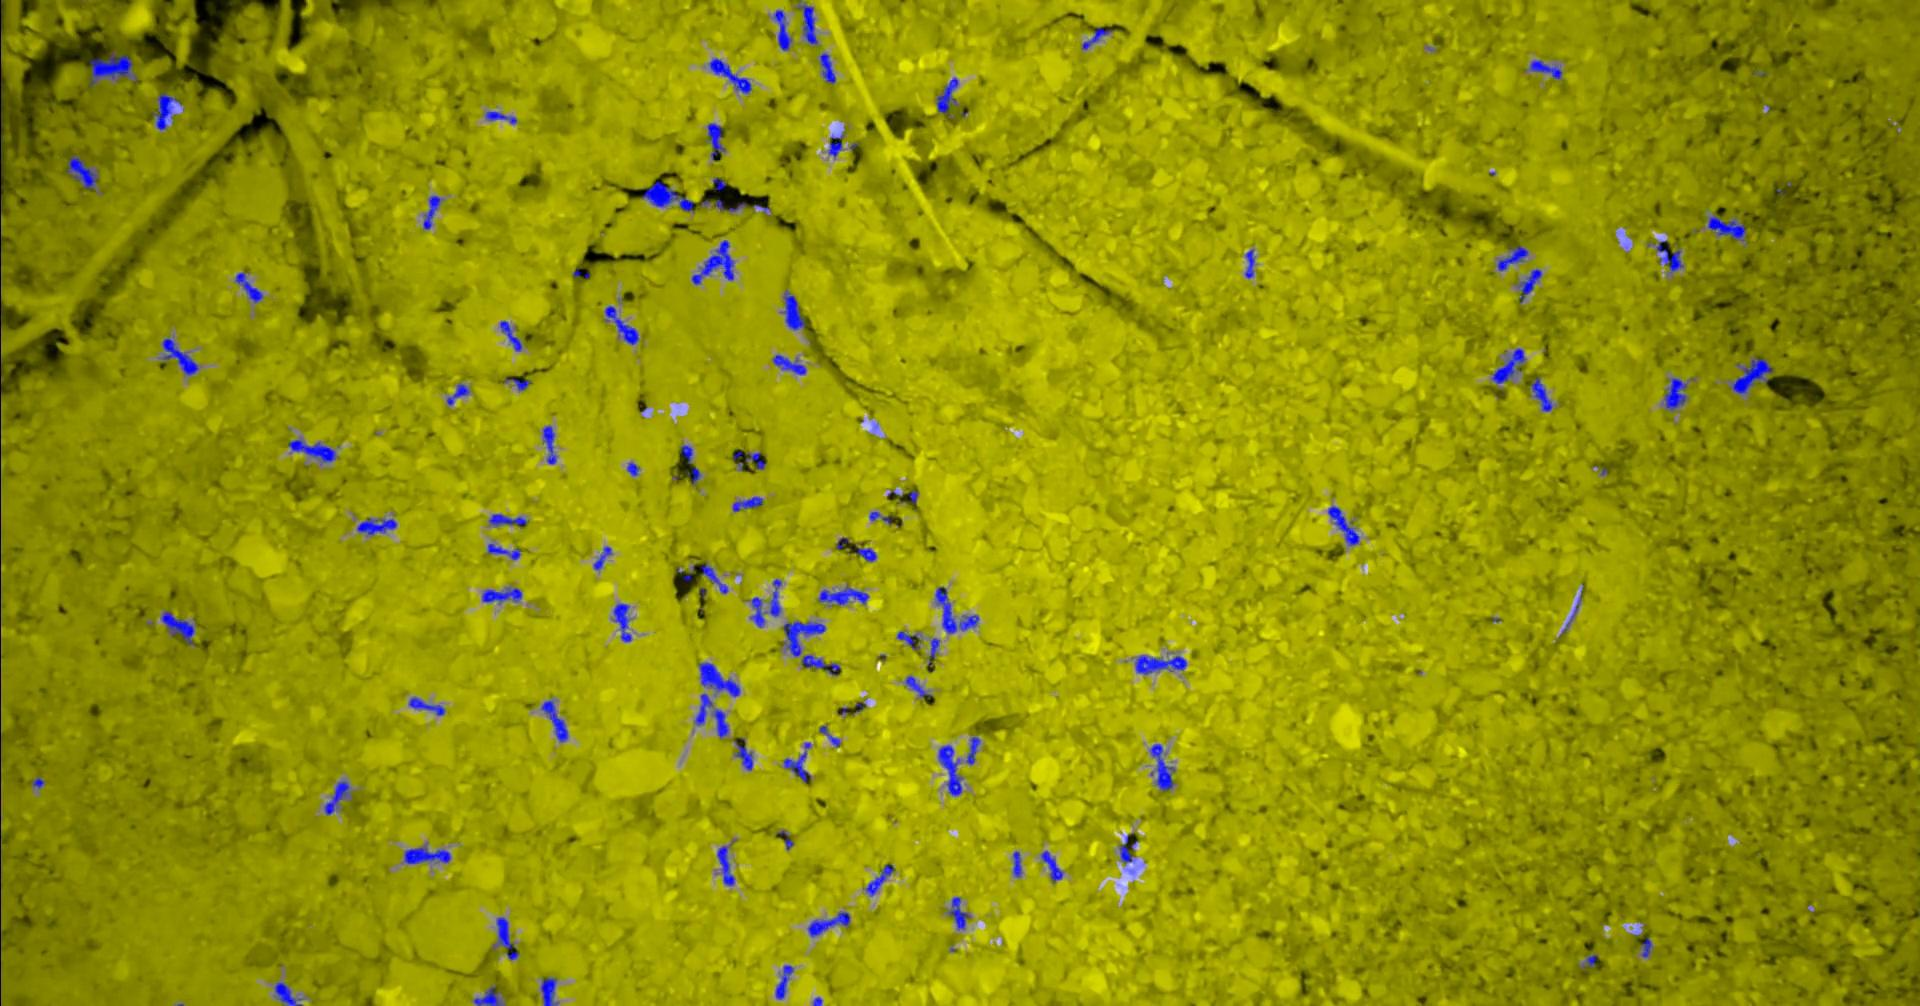ant: (782, 621, 841, 674), (935, 586, 978, 633), (691, 239, 733, 285), (88, 51, 136, 86), (641, 180, 693, 211), (1731, 356, 1773, 392), (709, 58, 750, 93), (698, 662, 739, 696), (163, 337, 197, 375), (604, 305, 637, 344), (937, 744, 961, 795), (1149, 743, 1175, 791), (1491, 348, 1525, 384), (1327, 506, 1357, 545), (161, 610, 194, 645), (1647, 240, 1683, 272), (287, 439, 335, 462), (66, 154, 97, 189), (541, 700, 568, 741), (783, 742, 810, 782), (152, 93, 182, 130), (808, 911, 850, 936), (1707, 215, 1745, 240), (818, 586, 869, 605), (1135, 655, 1186, 674), (865, 862, 894, 895), (497, 917, 518, 959), (324, 780, 349, 815), (782, 290, 805, 329), (403, 843, 450, 862), (698, 563, 728, 593), (1517, 268, 1542, 304), (234, 272, 262, 302), (797, 3, 817, 44), (1497, 245, 1528, 271), (936, 77, 957, 113), (1530, 376, 1552, 412), (1663, 377, 1686, 410), (773, 9, 791, 50), (408, 696, 444, 715), (716, 846, 734, 885), (1081, 27, 1111, 50), (1040, 850, 1062, 882), (613, 603, 631, 641), (356, 517, 396, 533), (949, 895, 969, 929), (499, 320, 521, 351), (274, 982, 302, 1005), (772, 354, 805, 373), (733, 737, 752, 770), (905, 674, 932, 697), (707, 123, 724, 160), (481, 587, 521, 602), (472, 984, 502, 1005), (1528, 60, 1561, 77), (775, 965, 792, 998), (695, 694, 712, 725), (423, 196, 439, 229), (488, 542, 521, 559), (542, 426, 556, 464), (819, 52, 836, 83), (1119, 835, 1137, 862), (540, 977, 557, 1005), (446, 384, 469, 405), (731, 495, 762, 511), (712, 709, 728, 738), (818, 725, 839, 746), (489, 513, 527, 525), (770, 578, 781, 616), (593, 546, 611, 570), (750, 597, 764, 627), (897, 631, 919, 649), (965, 735, 979, 763), (485, 111, 516, 123), (827, 133, 843, 156), (927, 638, 938, 671), (714, 198, 745, 210), (503, 377, 530, 390), (869, 511, 891, 525), (745, 452, 764, 469), (777, 829, 792, 850), (1244, 249, 1255, 278), (856, 547, 876, 561), (1012, 851, 1021, 876), (681, 445, 692, 464), (1641, 937, 1652, 956), (686, 467, 700, 483), (712, 177, 726, 191), (1583, 954, 1597, 968), (626, 462, 639, 475)
